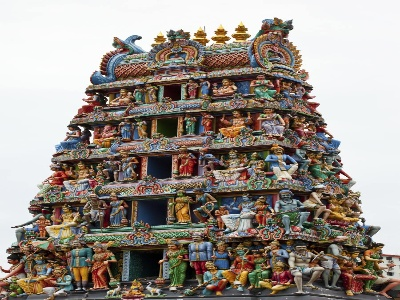gopura: (16, 36, 391, 272)
